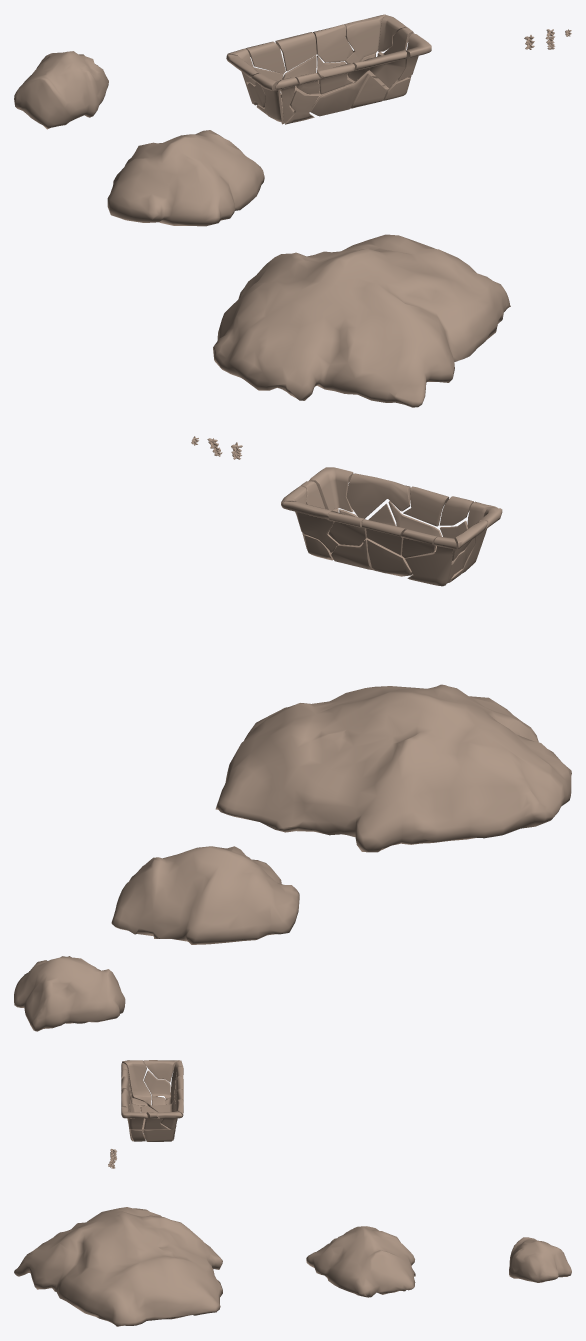
The model's file is broken_planter.fbx.
The picture shows the model from 3 angles, top to bottom: view 1: azimuth 30°, elevation 25°; view 2: azimuth 150°, elevation 25°; view 3: azimuth 270°, elevation 25°; orthographic projection. The views are drawn at different scales.
Parts seen in each view (by area): view 1: dirt1_low, dirt2_low, dirt3_low, shard_08, shard_09, shard_14, shard_27, shard_20, shard_17, shard_18, shard_06, shard_13 (+4 smaller); view 2: dirt1_low, dirt2_low, dirt3_low, shard_09, shard_23, shard_08, shard_13, shard_06, shard_14, shard_03, shard_20, shard_17 (+1 smaller); view 3: dirt1_low, dirt2_low, dirt3_low, shard_18, shard_01, shard_07, shard_13, shard_04.
Part boxes in pixels (box(x1,y1,x2,y2)): dirt1_low: box(213, 234, 510, 407); dirt2_low: box(107, 130, 264, 226); dirt3_low: box(14, 51, 108, 129); shard_08: box(344, 14, 385, 63); shard_09: box(348, 50, 407, 88); shard_14: box(313, 24, 353, 62); shard_27: box(310, 72, 368, 116); shard_20: box(275, 32, 316, 71); shard_17: box(245, 41, 285, 73); shard_18: box(252, 73, 290, 124); shard_06: box(317, 63, 354, 94); shard_13: box(398, 33, 431, 80); dirt1_low: box(215, 684, 571, 852); dirt2_low: box(111, 846, 299, 944); dirt3_low: box(14, 956, 125, 1031); shard_09: box(346, 473, 410, 518); shard_23: box(405, 536, 456, 586); shard_08: box(281, 501, 338, 552); shard_13: box(308, 467, 353, 512); shard_06: box(403, 486, 449, 526); shard_14: box(328, 510, 366, 545); shard_03: box(367, 539, 412, 576); shard_20: box(361, 519, 405, 555); shard_17: box(401, 529, 437, 557); dirt1_low: box(14, 1207, 222, 1326); dirt2_low: box(306, 1226, 415, 1297); dirt3_low: box(509, 1237, 571, 1282); shard_18: box(122, 1060, 151, 1106); shard_01: box(143, 1060, 179, 1082); shard_07: box(144, 1070, 170, 1099); shard_13: box(121, 1106, 147, 1129); shard_04: box(144, 1129, 174, 1141).
Size of the model in its own units: 95.85 by 75.8 by 199.
